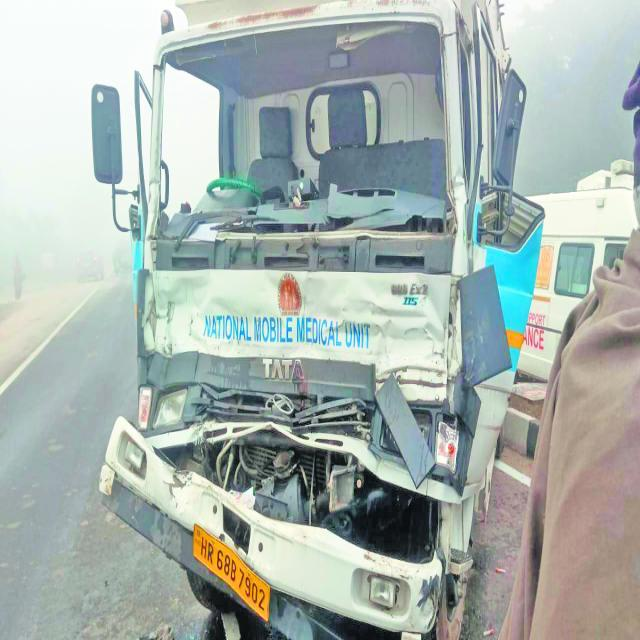accident: (101, 0, 544, 638)
